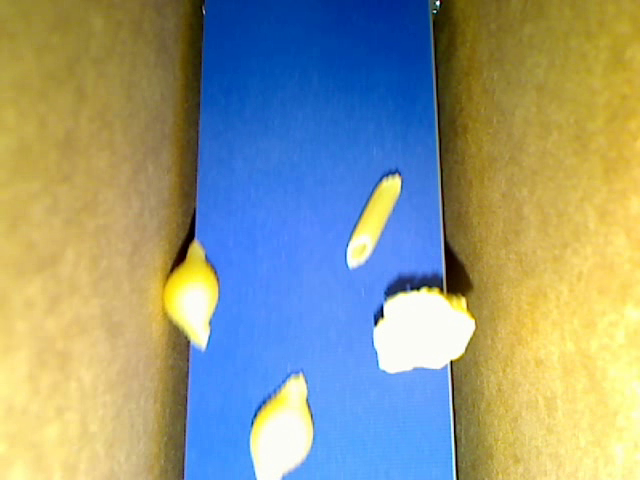penne: (344, 171, 402, 269)
shell: (248, 370, 314, 479), (163, 238, 220, 353)
